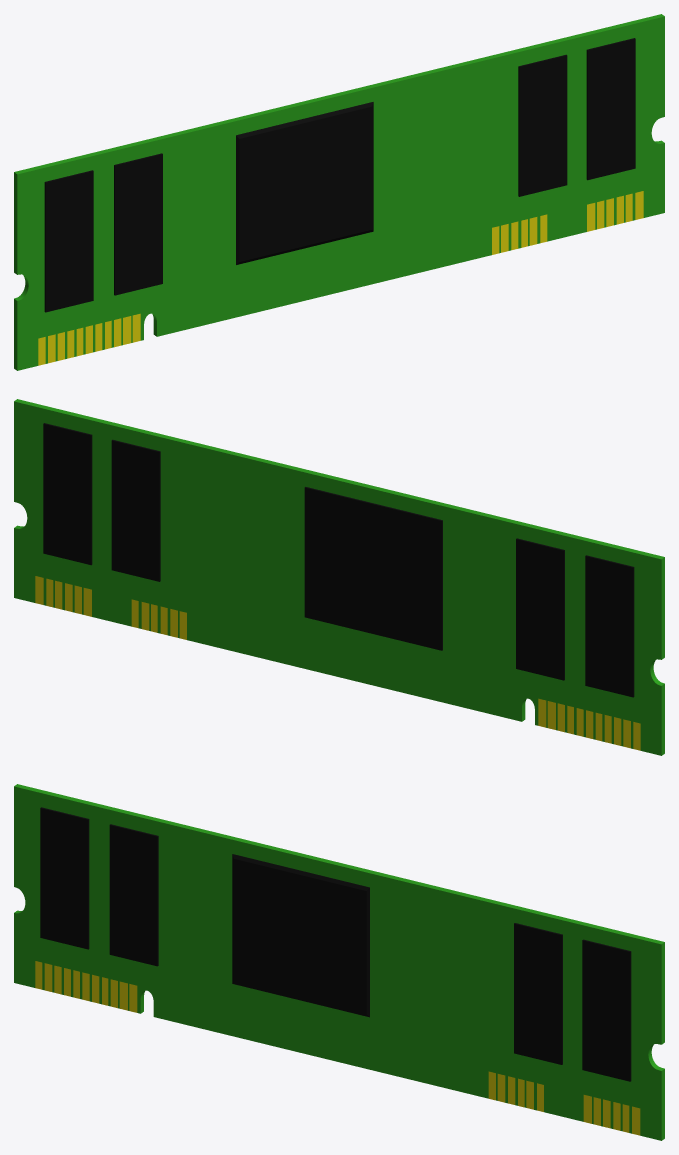
File: RAM.001.fbx
3 views of the same model, one above another, from view 1: azimuth 30°, elevation 25°; view 2: azimuth 150°, elevation 25°; view 3: azimuth 330°, elevation 25° (orthographic).
Parts seen in each view (by area): view 1: RAM.001; view 2: RAM.001; view 3: RAM.001.
Part boxes in pixels (x1=…): RAM.001: x1=14, y1=14, x2=664, y2=370; RAM.001: x1=14, y1=399, x2=664, y2=755; RAM.001: x1=14, y1=784, x2=664, y2=1140.
Bounding box in the file's own units: 3.78 × 1.1 × 0.056.
